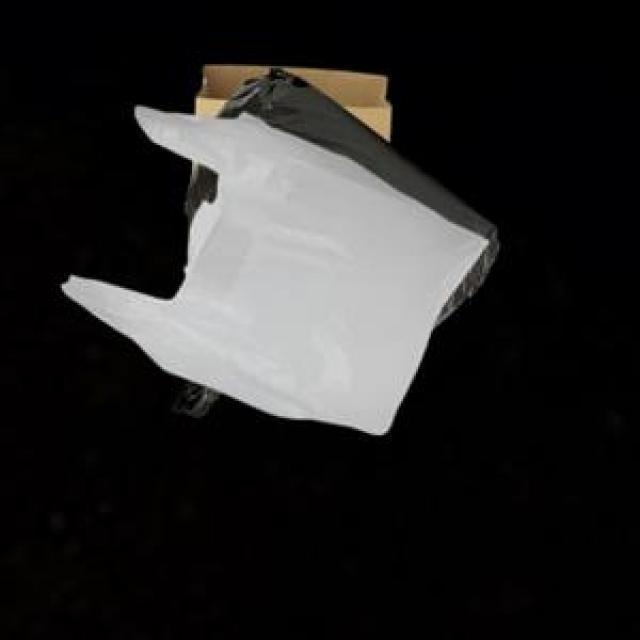miscellaneous trash: (169, 64, 495, 412)
paper: (192, 62, 386, 137)
